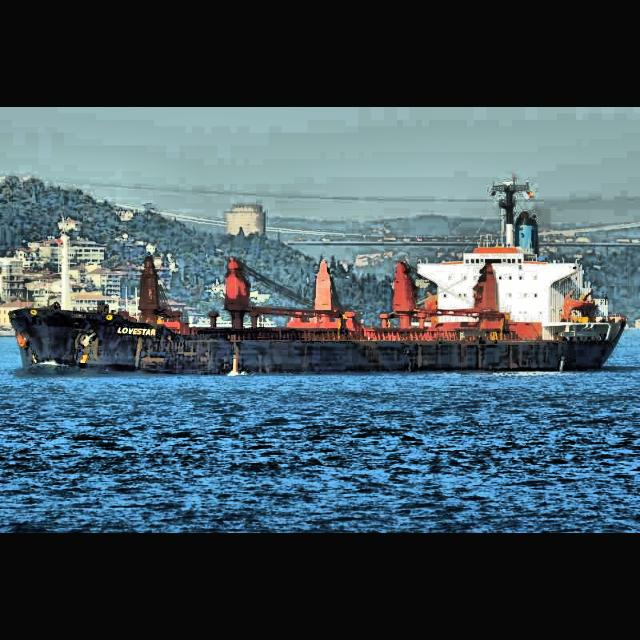bulk_carrier: (8, 176, 626, 374)
